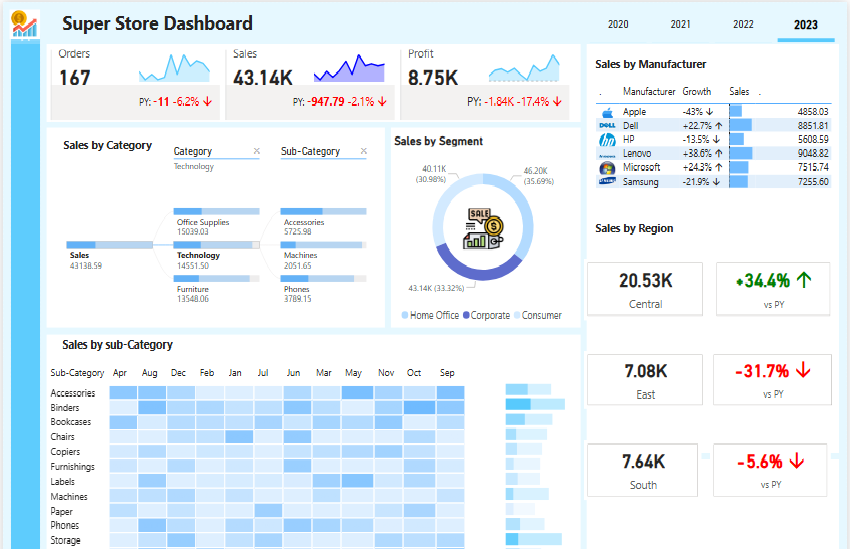

Layout of this report page (visuals, bound fields, positions):
{"tool":"powerbi","page":{"name":"Page 1","canvas":[1280,900],"ordinal":0},"visuals":[{"type":"advancedSlicerVisual","fields":{"Values":["Calendar.Year"]},"box":[883.6,0,384.7,62.2],"z":0},{"type":"cardVisual","fields":{"Data":["All Measures.Orders","All Measures.Sales","All Measures.Profit"]},"box":[67.2,62.2,799.6,112.5],"z":1000},{"type":"decompositionTreeVisual","fields":{"Analyze":["All Measures.Sales"],"ExplainBy":["dimSubCategory.Category","dimSubCategory.Sub-Category"]},"box":[67.2,186.5,505.6,263.7],"z":2000},{"type":"donutChart","fields":{"Category":["dimSegment.Segment"],"Y":["All Measures.Sales"]},"box":[587.9,186.5,278.8,277.2],"z":3000},{"type":"cardVisual","fields":{"Data":["All Measures.Sales"]},"box":[880,365,185,86.7],"z":4000},{"type":"cardVisual","fields":{"Data":["All Measures.Sales"]},"box":[880,495,185,83.3],"z":5000},{"type":"cardVisual","fields":{"Data":["All Measures.Sales"]},"box":[880,623.3,178.3,85],"z":6000},{"type":"cardVisual","fields":{"Data":["All Measures.Sales"]},"box":[883.3,776.7,178.3,78.3],"z":7000},{"type":"cardVisual","fields":{"Data":["All Measures.Sales Growth Arrow"]},"box":[1075,365,183.3,86.7],"z":8000},{"type":"cardVisual","fields":{"Data":["All Measures.Sales Growth Arrow"]},"box":[1071.7,495,190,83.3],"z":9000},{"type":"cardVisual","fields":{"Data":["All Measures.Sales Growth Arrow"]},"box":[1071.7,623.3,183.3,85],"z":10000},{"type":"cardVisual","fields":{"Data":["All Measures.Sales Growth Arrow"]},"box":[1075,776.7,183.3,78.3],"z":11000},{"type":"textbox","box":[85.7,185.7,171.4,51.8],"z":12000},{"type":"textbox","box":[891.7,305,138.3,38.3],"z":13000},{"type":"textbox","box":[84.9,469.3,202.4,41.6],"z":14000},{"type":"pivotTable","fields":{"Rows":["dimSubCategory.Sub-Category"],"Columns":["Calendar.Month"],"Values":["All Measures.Sales"]},"box":[61.4,511.4,710.2,289.2],"z":15000},{"type":"clusteredBarChart","fields":{"Y":["All Measures.Sales"],"Category":["dimSubCategory.Sub-Category"]},"box":[755.4,529,128.3,269.3],"z":16000},{"type":"clusteredColumnChart","fields":{"Category":["Calendar.Month"],"Y":["All Measures.Sales"]},"box":[153.6,798.8,612.7,101.2],"z":17000},{"type":"textbox","box":[891.7,71.7,201.7,40],"z":18000},{"type":"tableEx","fields":{"Values":["dimManufacturer.img","dimManufacturer.Manufacturer","All Measures.Sales Growth Arrow","All Measures.Sales Bar","All Measures.Sales"]},"box":[891.7,111.7,368.3,176.7],"z":19000},{"type":"textbox","box":[67.9,5.4,332.1,57.1],"z":20000},{"type":"image","box":[689.8,288.1,76.3,69.5],"z":21000},{"type":"image","box":[5,5,57.1,53.8],"z":23000}]}

Visuals, with their boxes on the page's 1280x900 design canvas (x1, y1, x2, y2). These are canvas units, not pixel positions in the 850x549 screenshot, which may show the page scaled, cropped or inside an application window:
advancedSlicerVisual - Calendar.Year: box=[884, 0, 1268, 62]
cardVisual - All Measures.Orders x All Measures.Sales: box=[67, 62, 867, 175]
decompositionTreeVisual - All Measures.Sales x dimSubCategory.Category: box=[67, 186, 573, 450]
donutChart - dimSegment.Segment x All Measures.Sales: box=[588, 186, 867, 464]
cardVisual - All Measures.Sales: box=[880, 365, 1065, 452]
cardVisual - All Measures.Sales: box=[880, 495, 1065, 578]
cardVisual - All Measures.Sales: box=[880, 623, 1058, 708]
cardVisual - All Measures.Sales: box=[883, 777, 1062, 855]
cardVisual - All Measures.Sales Growth Arrow: box=[1075, 365, 1258, 452]
cardVisual - All Measures.Sales Growth Arrow: box=[1072, 495, 1262, 578]
cardVisual - All Measures.Sales Growth Arrow: box=[1072, 623, 1255, 708]
cardVisual - All Measures.Sales Growth Arrow: box=[1075, 777, 1258, 855]
textbox: box=[86, 186, 257, 238]
textbox: box=[892, 305, 1030, 343]
textbox: box=[85, 469, 287, 511]
pivotTable - dimSubCategory.Sub-Category x Calendar.Month: box=[61, 511, 772, 801]
clusteredBarChart - All Measures.Sales x dimSubCategory.Sub-Category: box=[755, 529, 884, 798]
clusteredColumnChart - Calendar.Month x All Measures.Sales: box=[154, 799, 766, 900]
textbox: box=[892, 72, 1093, 112]
tableEx - dimManufacturer.img x dimManufacturer.Manufacturer: box=[892, 112, 1260, 288]
textbox: box=[68, 5, 400, 62]
image: box=[690, 288, 766, 358]
image: box=[5, 5, 62, 59]
